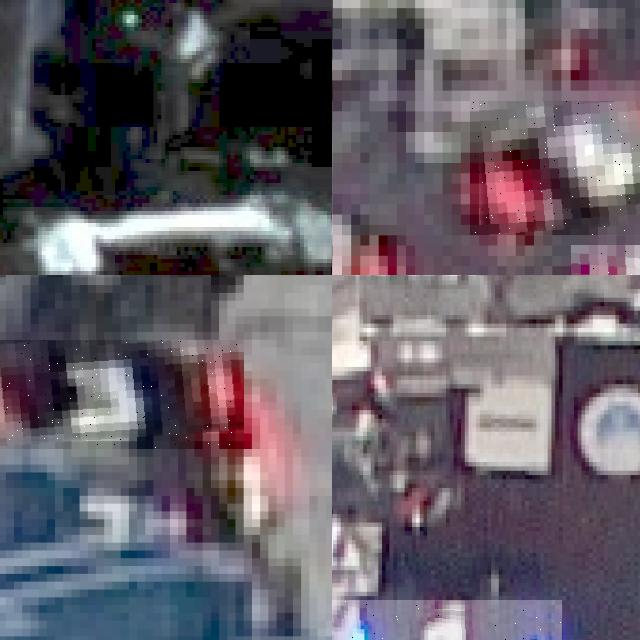B1: (332, 600, 562, 640)
R3: (0, 339, 243, 449), (469, 101, 640, 235), (332, 194, 396, 275)
